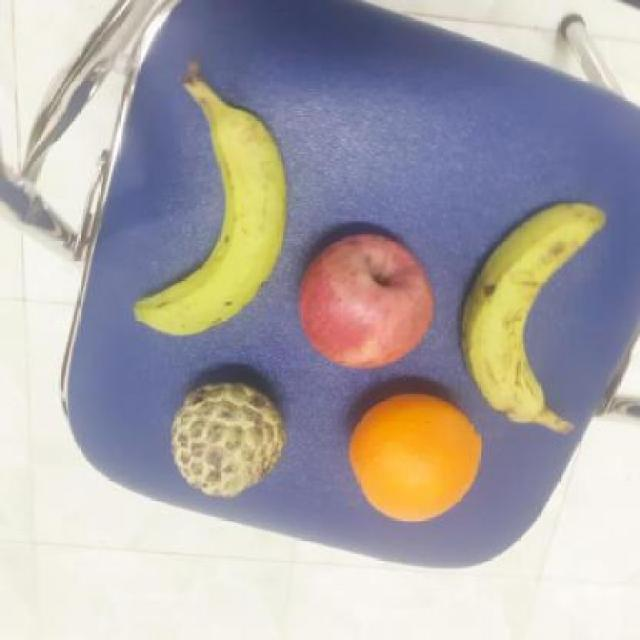apple: (294, 233, 434, 372)
banana: (128, 104, 290, 338), (452, 198, 610, 428)
oren: (345, 392, 483, 526)
sugar apple: (172, 379, 286, 499)
